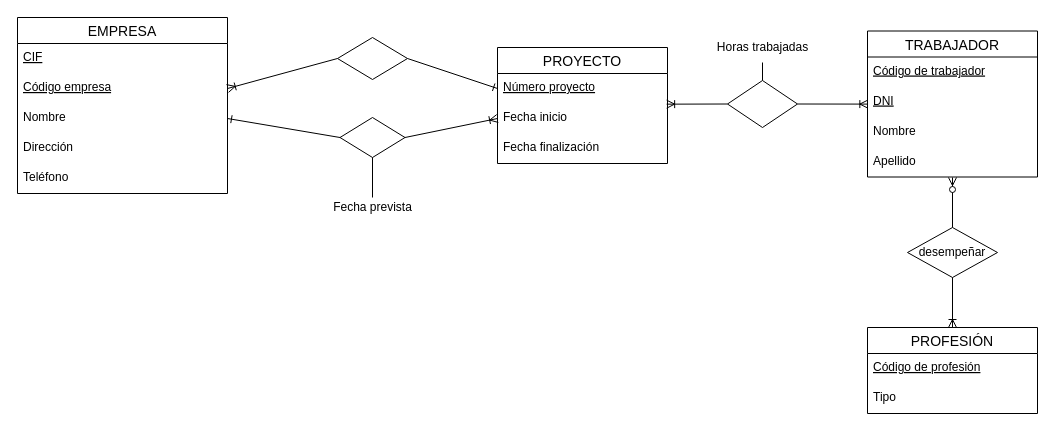
This 1055x434 diagram has some shape labels left out. The shapes that lost their labels are listed below. From the top down, each one's centre as x and y in pixels, then its label:
At (x=372, y=58): "iniciar".
At (x=762, y=104): "realiza".
At (x=372, y=137): "planificar".
